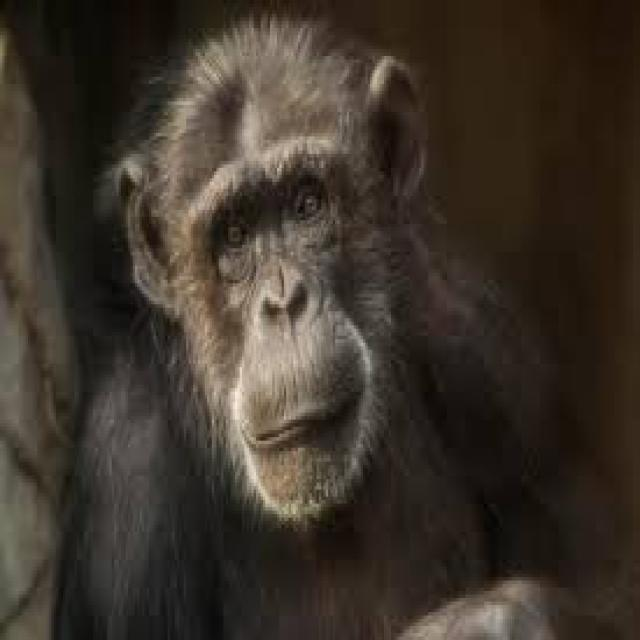Chimpanzee: (65, 0, 554, 640)
